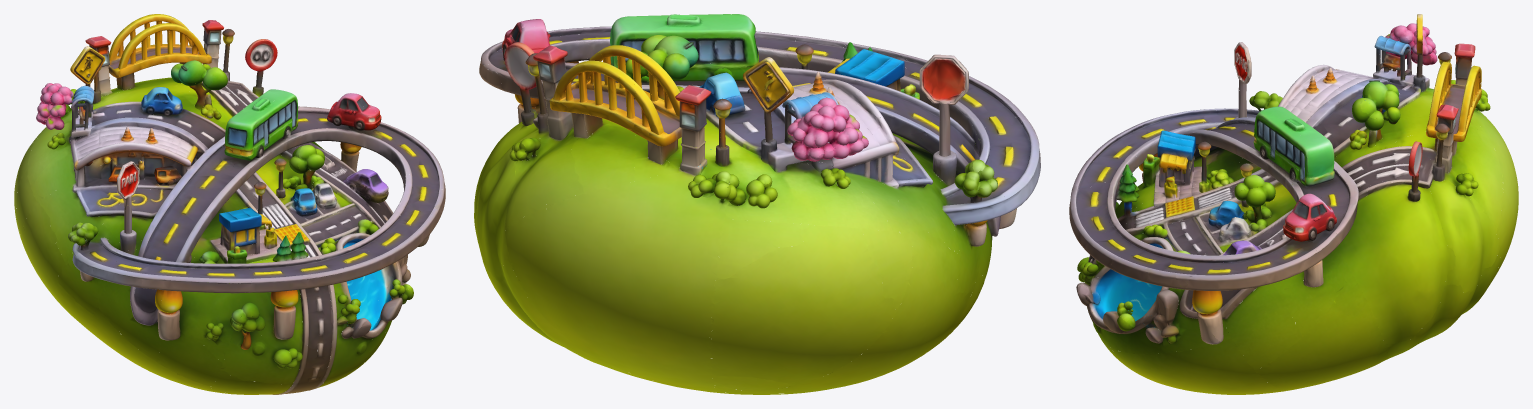
Rendered from planeta.glb.
3 renders of one model, left to right at view 1: azimuth 30°, elevation 25°; view 2: azimuth 150°, elevation 25°; view 3: azimuth 270°, elevation 25°, orthographic. The views are drawn at different scales.
Visible parts, largest first — view 1: SM_Planeta; view 2: SM_Planeta; view 3: SM_Planeta.
Part boxes in pixels (x1=…): SM_Planeta: x1=14, y1=14, x2=445, y2=394; SM_Planeta: x1=474, y1=14, x2=1040, y2=394; SM_Planeta: x1=1069, y1=14, x2=1518, y2=394.
Bounding box in the file's own units: 2.19 × 1.63 × 2.18.
Materials: 1 (1 with a texture image).
